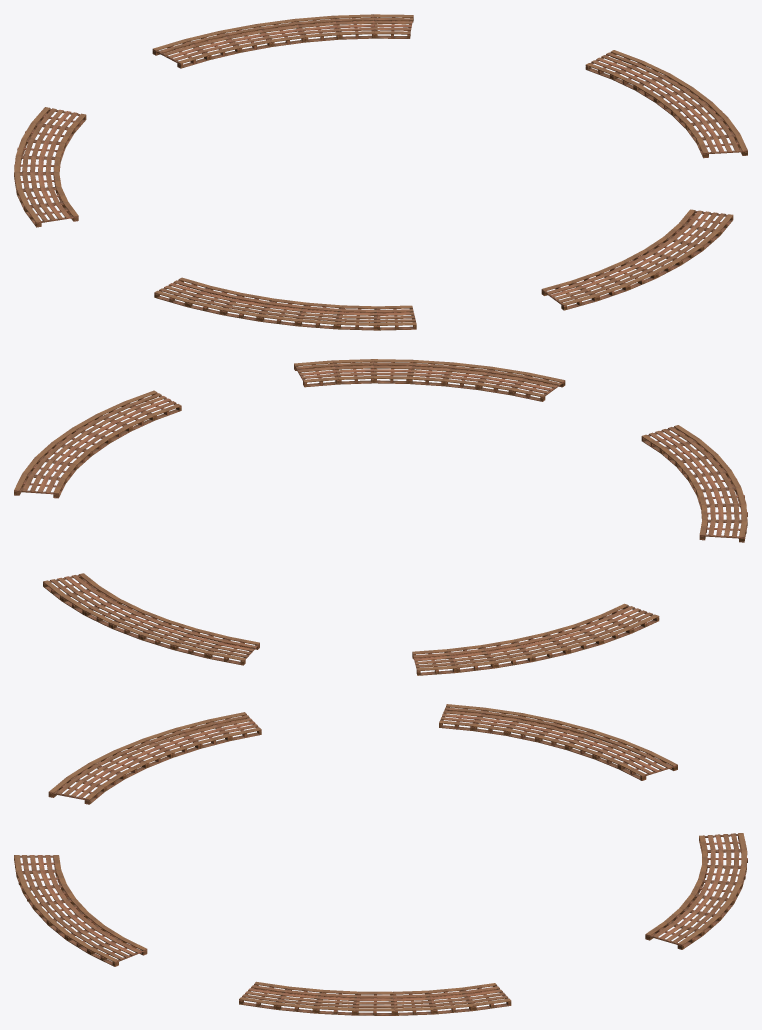
The model's file is Platforms1 (2).fbx.
3 renders of one model, top to bottom at view 1: azimuth 30°, elevation 25°; view 2: azimuth 150°, elevation 25°; view 3: azimuth 270°, elevation 25°, orthographic.
Parts seen in each view (by area): view 1: Object.652, Object.654, Object.653, Object.655, Object.558; view 2: Object.653, Object.558, Object.654, Object.655, Object.652; view 3: Object.655, Object.558, Object.652, Object.653, Object.654.
Boxes of the visible parts, left/top/right/bottom form: Object.652: left=154, top=277, right=416, bottom=330; Object.654: left=152, top=14, right=413, bottom=68; Object.653: left=541, top=209, right=733, bottom=310; Object.655: left=585, top=50, right=747, bottom=158; Object.558: left=14, top=107, right=86, bottom=227; Object.653: left=294, top=359, right=565, bottom=401; Object.558: left=412, top=603, right=659, bottom=675; Object.654: left=43, top=573, right=259, bottom=665; Object.655: left=14, top=390, right=181, bottom=498; Object.652: left=641, top=425, right=747, bottom=542; Object.655: left=239, top=981, right=511, bottom=1015; Object.558: left=439, top=704, right=677, bottom=780; Object.652: left=48, top=712, right=261, bottom=804; Object.653: left=14, top=855, right=147, bottom=966; Object.654: left=645, top=833, right=747, bottom=949.
Size of the model in its own units: 2793 by 22.41 by 2822.
